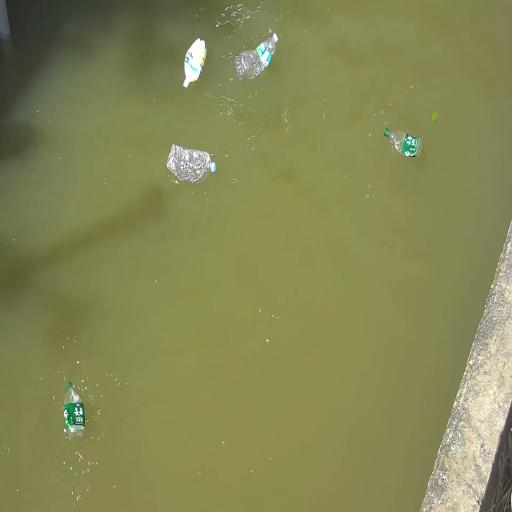plastic: (235, 33, 278, 80), (167, 145, 215, 182), (183, 38, 207, 88), (64, 382, 85, 437), (384, 128, 422, 157)
